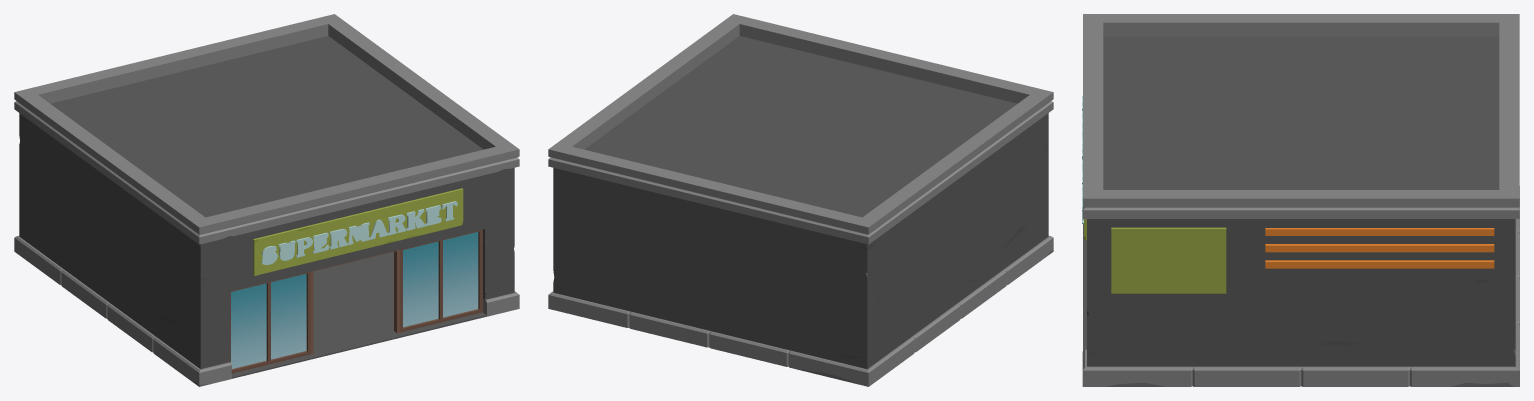
File: SM_Buildings_Supermarket_02.fbx
3 renders of one model, left to right at view 1: azimuth 30°, elevation 25°; view 2: azimuth 150°, elevation 25°; view 3: azimuth 270°, elevation 25°, orthographic. The views are drawn at different scales.
Parts seen in each view (by area): view 1: SM_Buildings_Supermarket_02; view 2: SM_Buildings_Supermarket_02; view 3: SM_Buildings_Supermarket_02.
Part boxes in pixels (<box>): SM_Buildings_Supermarket_02: <box>14,14,519,386</box>; SM_Buildings_Supermarket_02: <box>548,14,1053,386</box>; SM_Buildings_Supermarket_02: <box>1082,14,1519,386</box>.
Bounding box in the file's own units: 12.24 × 5.82 × 12.26.
